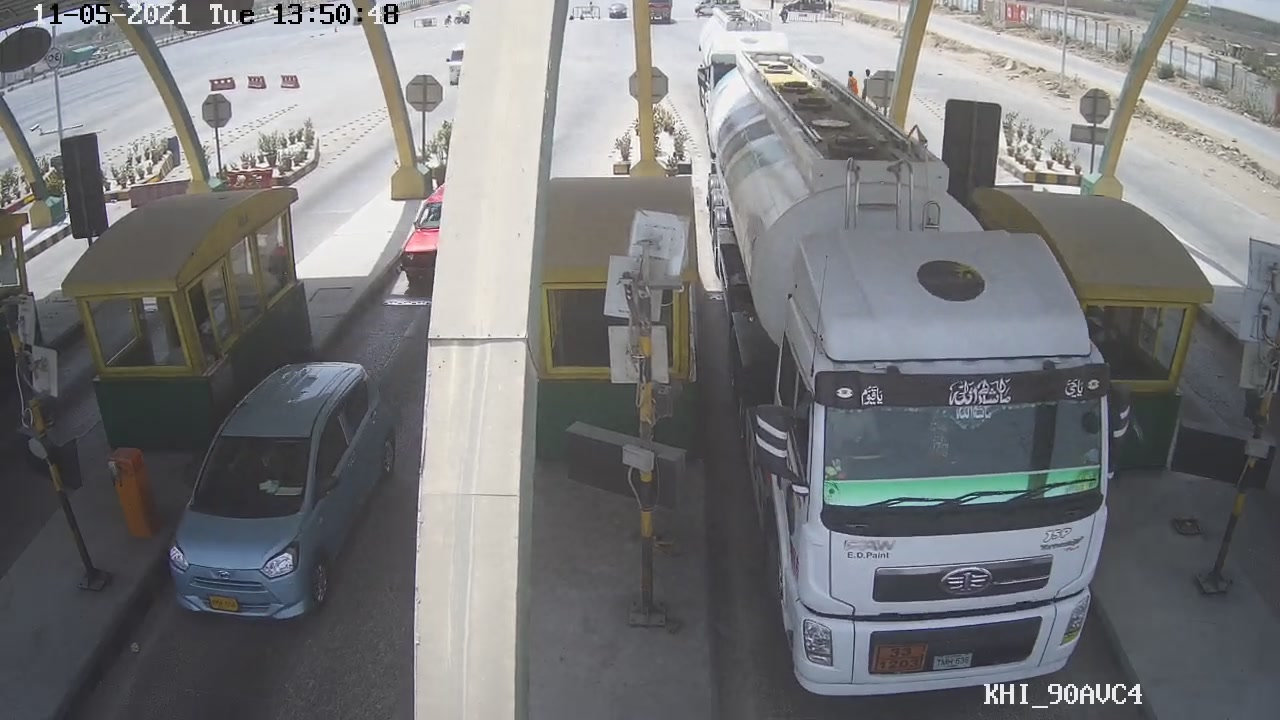F6: (696, 50, 1132, 700)
